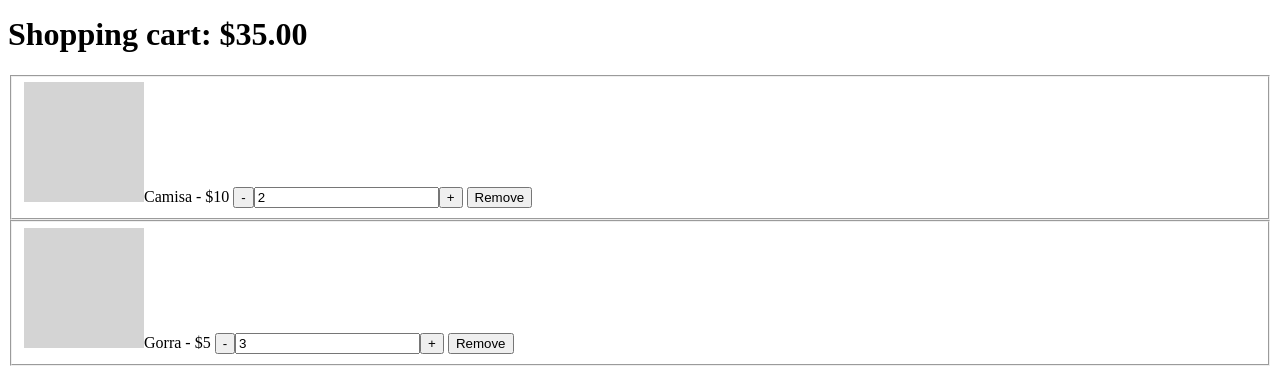
Test: Cart › Remove saca el producto y recalcula el total
The image size is (1280, 383).
Click the button "Remove" in the row of "10": (499, 198) top-left (467, 188), bottom-right (532, 208)
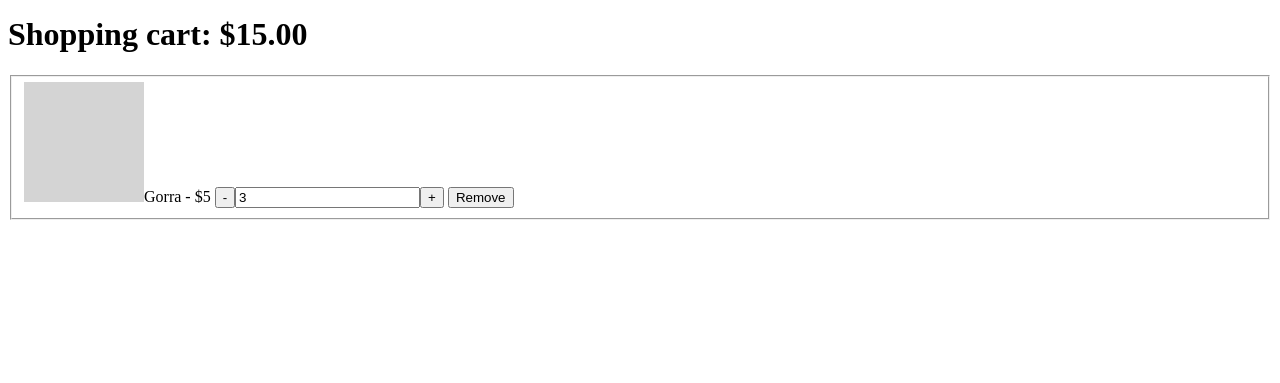
Expected: the text "Gorra" is shown, top-left (144, 188), bottom-right (181, 206)
Expected: the text "Camisa" is gone
Expected: the heading "Shopping cart: $15.00" is shown, top-left (8, 16), bottom-right (308, 52)
